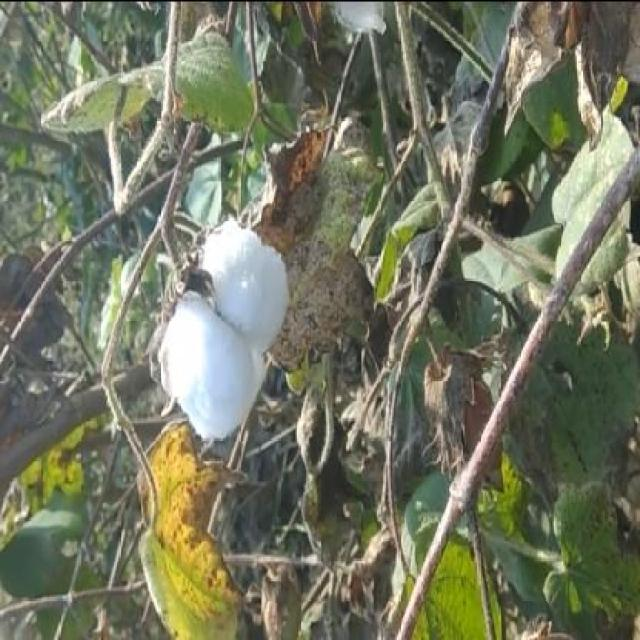cotton_ready: (148, 208, 292, 464)
